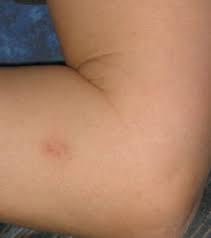Spider: (33, 135, 68, 160)
